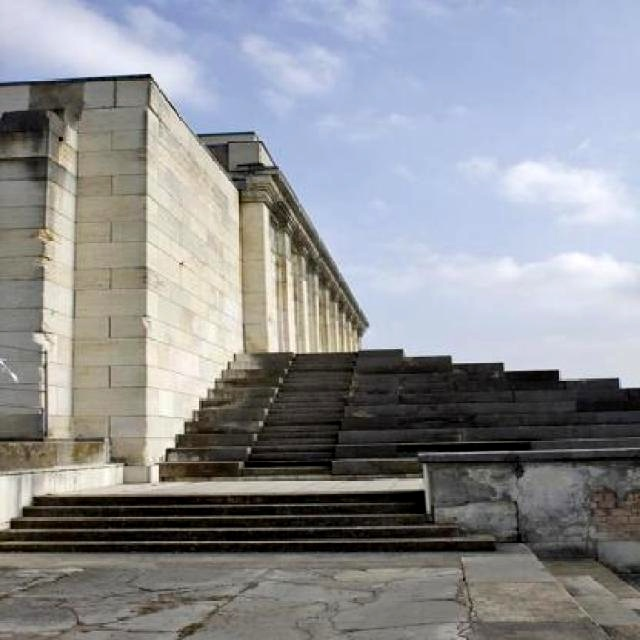stair: (6, 475, 517, 561), (203, 338, 389, 460)
